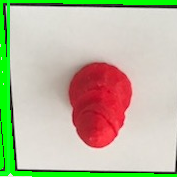Red Bishop: (67, 58, 135, 150)
